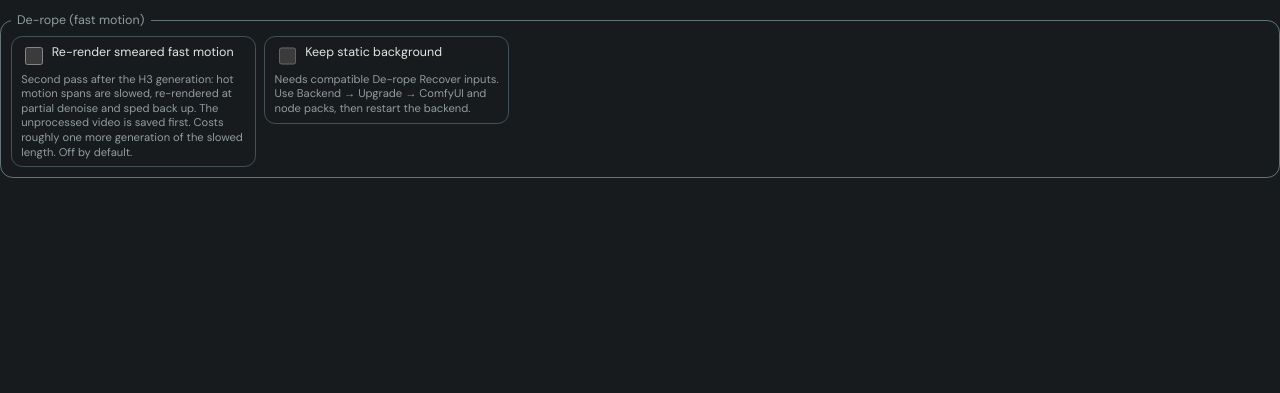
Test case: missing nodes disable the switch with the update reason; a conflict is named once enabled
The width and height of the screenshot is (1280, 393).
Later steps or results of the test are not shown.
Click the checkbox labelled "Re-render smeared fast motion" at (34, 56), box [25,47,43,65]
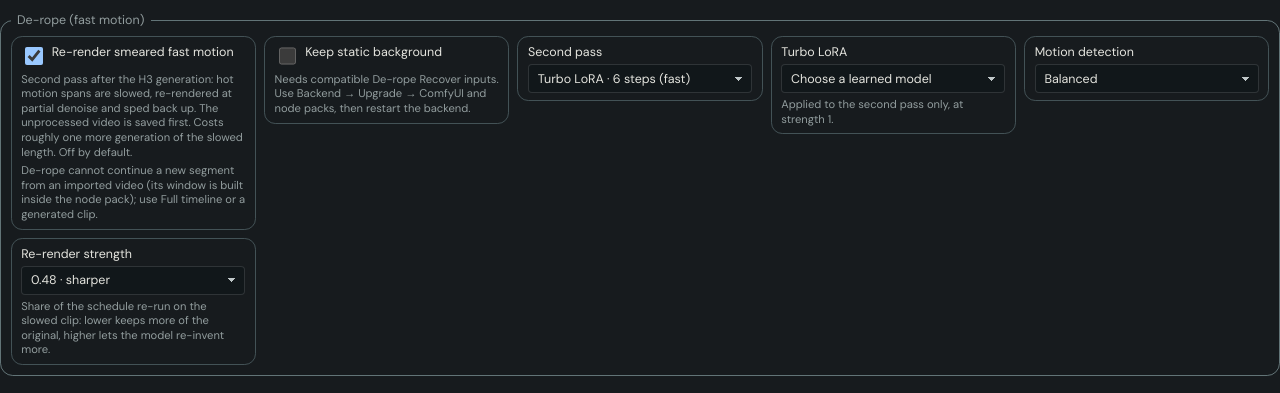
Expected: the message shows "imported video", [21,163,245,221]
